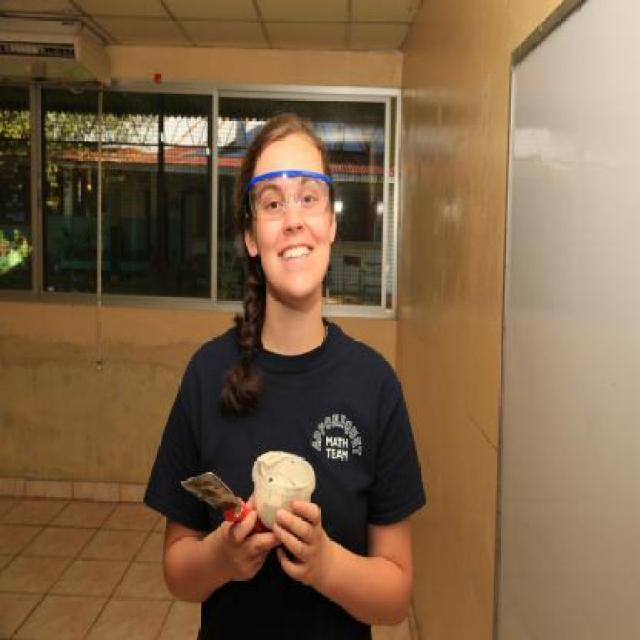Ice cream: (250, 447, 318, 535)
